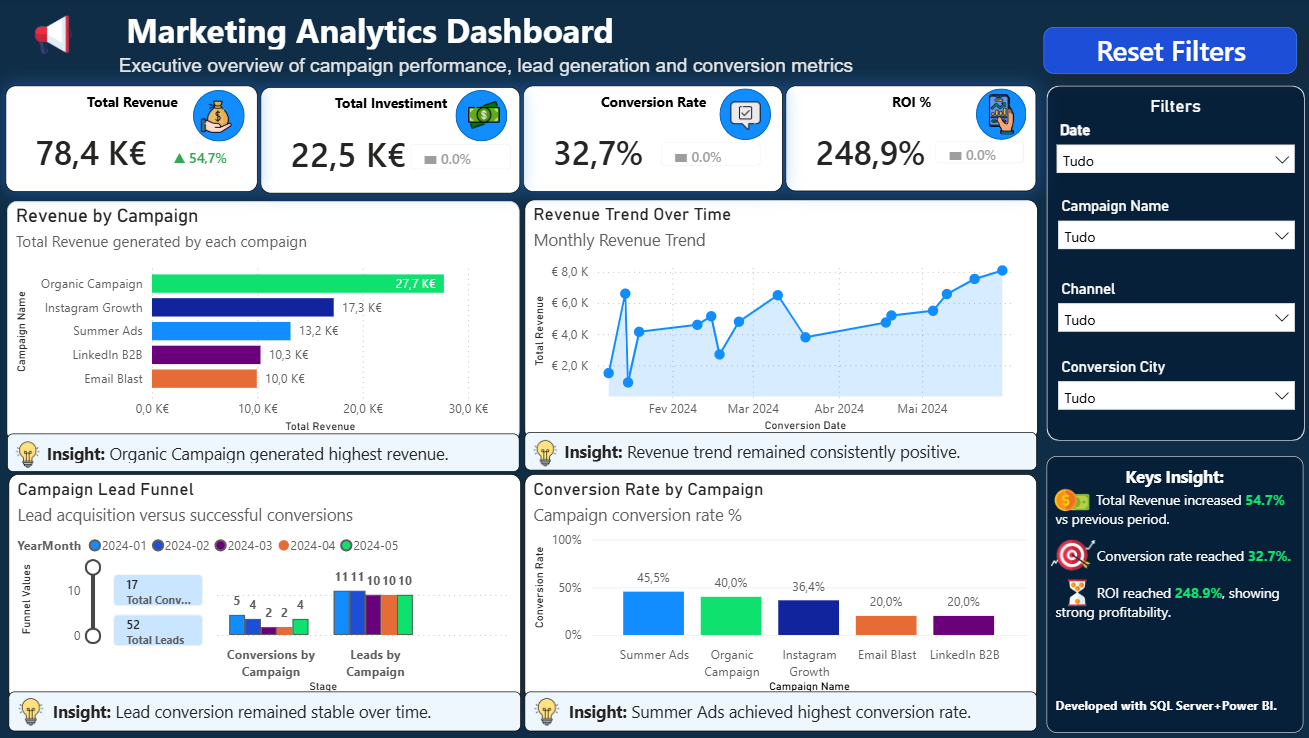

What the dashboard file says about the page in this screenshot:
{"tool":"powerbi","page":{"name":"Marketing_Analytics_Dashboard","canvas":[1280,720],"ordinal":0},"visuals":[{"type":"group","id":"g1","title":"Grupo 29","box":[16.2,4.9,994.2,92.3],"z":0},{"type":"group","id":"g2","title":"Grupo 5","box":[514.8,85.2,252,103],"z":0,"group":"g24"},{"type":"cardVisual","fields":{"Data":["KPIs.Conversion Rate"]},"box":[514.8,85.2,252,103],"z":0,"group":"g2"},{"type":"group","id":"g3","title":"Grupo 2","box":[13.5,85.5,252.6,103.6],"z":0,"group":"g26"},{"type":"group","id":"g4","title":"Grupo 3","box":[13.5,85.5,252.6,103.6],"z":0,"group":"g3"},{"type":"group","id":"g5","title":"Grupo 7","box":[13.5,85.5,252.6,103.6],"z":0,"group":"g4"},{"type":"cardVisual","fields":{"Data":["KPIs.Total Revenue"]},"box":[13.5,85.5,244.9,103.6],"z":0,"group":"g5"},{"type":"shape","box":[1022.7,85.8,250.9,344.9],"z":0,"group":"g19"},{"type":"group","id":"g6","title":"Grupo 4","box":[770.6,85.9,248.8,102.5],"z":0,"group":"g22"},{"type":"cardVisual","fields":{"Data":["KPIs.ROI %"]},"box":[770.6,85.9,243.3,102.5],"z":0,"group":"g6"},{"type":"group","id":"g7","title":"Grupo 6","box":[261.2,87.9,260.7,103],"z":0,"group":"g25"},{"type":"cardVisual","fields":{"Data":["KPIs.Total Investiment"]},"box":[261.2,87.9,252,103],"z":0,"group":"g7"},{"type":"group","id":"g8","title":"Grupo 12","box":[704.9,87.9,50,50],"z":0,"group":"g14"},{"type":"shape","box":[704.9,87.9,50,50],"z":0,"group":"g8"},{"type":"group","id":"g9","title":"Grupo 14","box":[956.1,89.5,48.9,49.8],"z":0,"group":"g15"},{"type":"shape","box":[956.1,89.5,48.9,49.8],"z":0,"group":"g9"},{"type":"shape","box":[196.1,90.3,50.2,50],"z":0,"group":"g16"},{"type":"group","id":"g10","title":"Grupo 10","box":[450.5,90.7,51.5,50],"z":0,"group":"g17"},{"type":"shape","box":[450.5,90.7,50.3,49.8],"z":0,"group":"g10"},{"type":"textbox","box":[516.7,422.3,497.1,37.2],"z":0,"group":"g21"},{"type":"textbox","box":[14.6,423.2,497.1,37.2],"z":0,"group":"g28"},{"type":"group","id":"g11","title":"Grupo 21","box":[1022.7,445.3,249.4,268.8],"z":0,"group":"g23"},{"type":"group","id":"g12","title":"Grupo 22","box":[1022.7,445.3,249.4,268.8],"z":0,"group":"g11"},{"type":"group","id":"g13","title":"Grupo 23","box":[1022.7,445.3,249.4,268.8],"z":0,"group":"g12"},{"type":"textbox","box":[1022.7,445.3,249.4,268.8],"z":0,"group":"g13"},{"type":"image","box":[1024.4,462.4,52.6,47.9],"z":0,"group":"g18"},{"type":"textbox","box":[13.3,673.3,500,38.9],"z":0,"group":"g20"},{"type":"textbox","box":[516.5,673.6,497.1,38.9],"z":0,"group":"g29"},{"type":"textbox","box":[125.1,4.9,885.3,53.7],"z":500,"group":"g1"},{"type":"textbox","box":[118,51.2,891.1,46],"z":1000,"group":"g1"},{"type":"group","id":"g14","title":"Grupo 11","box":[704.9,87.9,50.2,50.2],"z":1000,"group":"g24"},{"type":"group","id":"g15","title":"Grupo 13","box":[956.1,89.5,48.9,49.8],"z":1000,"group":"g22"},{"type":"group","id":"g16","title":"Grupo 8","box":[196.1,90.3,50.2,50],"z":1000,"group":"g26"},{"type":"group","id":"g17","title":"Grupo 9","box":[450.5,90.7,50,50],"z":1000,"group":"g25"},{"type":"image","box":[961.1,93.3,41.1,40.8],"z":1000,"group":"g9"},{"type":"slicer","title":"Filters","fields":{"Values":["DimDate.YearMonth"]},"box":[1022.8,96.6,250.9,101.8],"z":1000,"group":"g19"},{"type":"image","box":[452.8,99.8,48.9,30.6],"z":1000,"group":"g10"},{"type":"image","box":[711.9,100.2,35.7,29.2],"z":1000,"group":"g8"},{"type":"image","box":[203.5,101.1,30.8,31.2],"z":1000,"group":"g16"},{"type":"cardVisual","fields":{"Data":["KPIs.Conversion Trend Label"]},"box":[631.5,122.7,131.9,57.7],"z":1000,"group":"g2"},{"type":"cardVisual","fields":{"Data":["KPIs.ROI Trend Label"]},"box":[898.9,123,120.4,56.4],"z":1000,"group":"g6"},{"type":"cardVisual","fields":{"Data":["KPIs.Investment Trend Label"]},"box":[389,125.1,132.9,59.9],"z":1000,"group":"g7"},{"type":"cardVisual","fields":{"Data":["KPIs.Revenue Trend Label"]},"box":[147.9,127.6,118.2,53.4],"z":1000,"group":"g5"},{"type":"clusteredBarChart","title":"Revenue by Campaign","fields":{"Category":["Campanhas.Campaign Name"],"Y":["KPIs.Total Revenue"]},"box":[14.6,197.5,497.1,233.2],"z":1000},{"type":"image","box":[518.3,428.5,37,29.5],"z":1000,"group":"g21"},{"type":"image","box":[16.2,429.4,37,29.5],"z":1000,"group":"g28"},{"type":"image","box":[1024.4,515.5,50.9,49.6],"z":1000,"group":"g18"},{"type":"image","box":[16.5,678.2,37.3,30.8],"z":1000,"group":"g20"},{"type":"image","box":[519.7,678.5,37.1,30.8],"z":1000,"group":"g29"},{"type":"group","id":"g18","title":"Grupo 24","box":[1024.4,462.4,52.6,102.7],"z":1500,"group":"g13"},{"type":"image","box":[16.2,7.9,84,60.8],"z":2000,"group":"g1"},{"type":"lineChart","title":"Revenue Trend Over Time","fields":{"Category":["Conversoes.Conversion Date.Variação.Hierarquia de Datas.Ano"],"Y":["KPIs.Total Revenue"]},"box":[515.6,196.7,498.9,234.4],"z":2000},{"type":"slicer","fields":{"Values":["Campanhas.Channel"]},"box":[1024.3,269.6,249.3,60.8],"z":2000,"group":"g19"},{"type":"slicer","fields":{"Values":["Leads.City"]},"box":[1024.3,345.6,249.3,60.8],"z":3000,"group":"g19"},{"type":"clusteredColumnChart","title":"Campaign Lead Funnel","fields":{"Category":["Funnel Stage.Stage"],"Y":["KPIs.Funnel Values"],"Series":["DimDate.YearMonth"]},"box":[13.3,463.3,500,220],"z":3000},{"type":"slicer","fields":{"Values":["Campanhas.Campaign Name"]},"box":[1024.3,189.1,249.3,76],"z":4000,"group":"g19"},{"type":"clusteredColumnChart","title":"Conversion Rate by Campaign","fields":{"Category":["Campanhas.Campaign Name"],"Y":["KPIs.Conversion Rate"]},"box":[516.5,463.1,497.1,220.2],"z":4000},{"type":"group","id":"g19","title":"Grupo 1","box":[1022.7,85.8,251,344.9],"z":5000},{"type":"actionButton","title":"Reset Filters","box":[1020.1,29.1,246.1,45.3],"z":6000},{"type":"group","id":"g20","title":"Grupo 17","box":[13.3,673.3,500,38.9],"z":8000},{"type":"group","id":"g21","title":"Grupo 18","box":[516.7,422.3,497.1,37.2],"z":9000},{"type":"group","id":"g22","title":"Grupo 25","box":[770.6,85.9,248.8,102.5],"z":10000},{"type":"group","id":"g23","title":"Grupo 20","box":[1022.7,445.3,249.4,268.8],"z":10000,"group":"g27"},{"type":"group","id":"g24","title":"Grupo 26","box":[514.8,85.2,252,103],"z":11000},{"type":"group","id":"g25","title":"Grupo 27","box":[261.2,87.9,260.7,103],"z":12000},{"type":"group","id":"g26","title":"Grupo 28","box":[13.5,85.5,252.6,103.6],"z":13000},{"type":"group","id":"g27","title":"Grupo 30","box":[1022.7,445.3,249.4,268.8],"z":14000},{"type":"cardVisual","fields":{"Data":["KPIs.Total Conversions","KPIs.Total Leads"]},"box":[100.4,542.4,121.4,105.2],"z":15000},{"type":"group","id":"g28","title":"Grupo 18","box":[14.6,423.2,497.1,37.2],"z":16000},{"type":"image","box":[1030.8,557,42.1,42.1],"z":16000,"group":"g27"},{"type":"group","id":"g29","title":"Grupo 17","box":[516.5,673.6,497.1,38.9],"z":17000}]}

Visuals, with their boxes in screenshot pixels (x1, y1, x2, y2), scaled from the page's 1280x720 canvas onto the 1309x738 screenshot:
"Grupo 29" group: <box>17,5,1033,100</box>
"Grupo 5" group: <box>526,87,784,193</box>
cardVisual - KPIs.Conversion Rate: <box>526,87,784,193</box>
"Grupo 2" group: <box>14,88,272,194</box>
"Grupo 3" group: <box>14,88,272,194</box>
"Grupo 7" group: <box>14,88,272,194</box>
cardVisual - KPIs.Total Revenue: <box>14,88,264,194</box>
shape: <box>1046,88,1302,441</box>
"Grupo 4" group: <box>788,88,1042,193</box>
cardVisual - KPIs.ROI %: <box>788,88,1037,193</box>
"Grupo 6" group: <box>267,90,534,196</box>
cardVisual - KPIs.Total Investiment: <box>267,90,525,196</box>
"Grupo 12" group: <box>721,90,772,141</box>
shape: <box>721,90,772,141</box>
"Grupo 14" group: <box>978,92,1028,143</box>
shape: <box>978,92,1028,143</box>
shape: <box>201,93,252,144</box>
"Grupo 10" group: <box>461,93,513,144</box>
shape: <box>461,93,512,144</box>
textbox: <box>528,433,1037,471</box>
textbox: <box>15,434,523,472</box>
"Grupo 21" group: <box>1046,456,1301,732</box>
"Grupo 22" group: <box>1046,456,1301,732</box>
"Grupo 23" group: <box>1046,456,1301,732</box>
textbox: <box>1046,456,1301,732</box>
image: <box>1048,474,1101,523</box>
textbox: <box>14,690,525,730</box>
textbox: <box>528,690,1037,730</box>
textbox: <box>128,5,1033,60</box>
textbox: <box>121,52,1032,100</box>
"Grupo 11" group: <box>721,90,772,142</box>
"Grupo 13" group: <box>978,92,1028,143</box>
"Grupo 8" group: <box>201,93,252,144</box>
"Grupo 9" group: <box>461,93,512,144</box>
image: <box>983,96,1025,137</box>
"Filters" slicer: <box>1046,99,1303,203</box>
image: <box>463,102,513,134</box>
image: <box>728,103,765,133</box>
image: <box>208,104,240,136</box>
cardVisual - KPIs.Conversion Trend Label: <box>646,126,781,185</box>
cardVisual - KPIs.ROI Trend Label: <box>919,126,1042,184</box>
cardVisual - KPIs.Investment Trend Label: <box>398,128,534,190</box>
cardVisual - KPIs.Revenue Trend Label: <box>151,131,272,186</box>
"Revenue by Campaign" clusteredBarChart: <box>15,202,523,441</box>
image: <box>530,439,568,469</box>
image: <box>17,440,54,470</box>
image: <box>1048,528,1100,579</box>
image: <box>17,695,55,727</box>
image: <box>531,695,569,727</box>
"Grupo 24" group: <box>1048,474,1101,579</box>
image: <box>17,8,102,70</box>
"Revenue Trend Over Time" lineChart: <box>527,202,1037,442</box>
slicer - Campanhas.Channel: <box>1048,276,1302,339</box>
slicer - Leads.City: <box>1048,354,1302,417</box>
"Campaign Lead Funnel" clusteredColumnChart: <box>14,475,525,700</box>
slicer - Campanhas.Campaign Name: <box>1048,194,1302,272</box>
"Conversion Rate by Campaign" clusteredColumnChart: <box>528,475,1037,700</box>
"Grupo 1" group: <box>1046,88,1303,441</box>
"Reset Filters" actionButton: <box>1043,30,1295,76</box>
"Grupo 17" group: <box>14,690,525,730</box>
"Grupo 18" group: <box>528,433,1037,471</box>
"Grupo 25" group: <box>788,88,1042,193</box>
"Grupo 20" group: <box>1046,456,1301,732</box>
"Grupo 26" group: <box>526,87,784,193</box>
"Grupo 27" group: <box>267,90,534,196</box>
"Grupo 28" group: <box>14,88,272,194</box>
"Grupo 30" group: <box>1046,456,1301,732</box>
cardVisual - KPIs.Total Conversions x KPIs.Total Leads: <box>103,556,227,664</box>
"Grupo 18" group: <box>15,434,523,472</box>
image: <box>1054,571,1097,614</box>
"Grupo 17" group: <box>528,690,1037,730</box>
